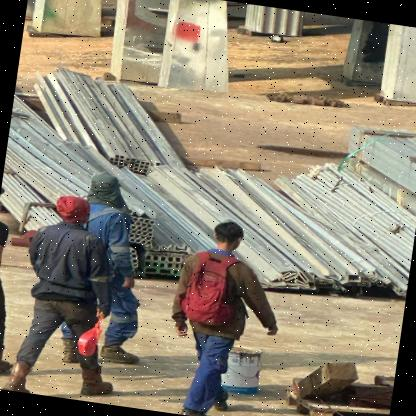bota: (74, 362, 119, 400), (98, 340, 145, 368), (2, 360, 36, 393), (57, 338, 81, 366), (211, 386, 232, 411), (0, 343, 16, 375)
